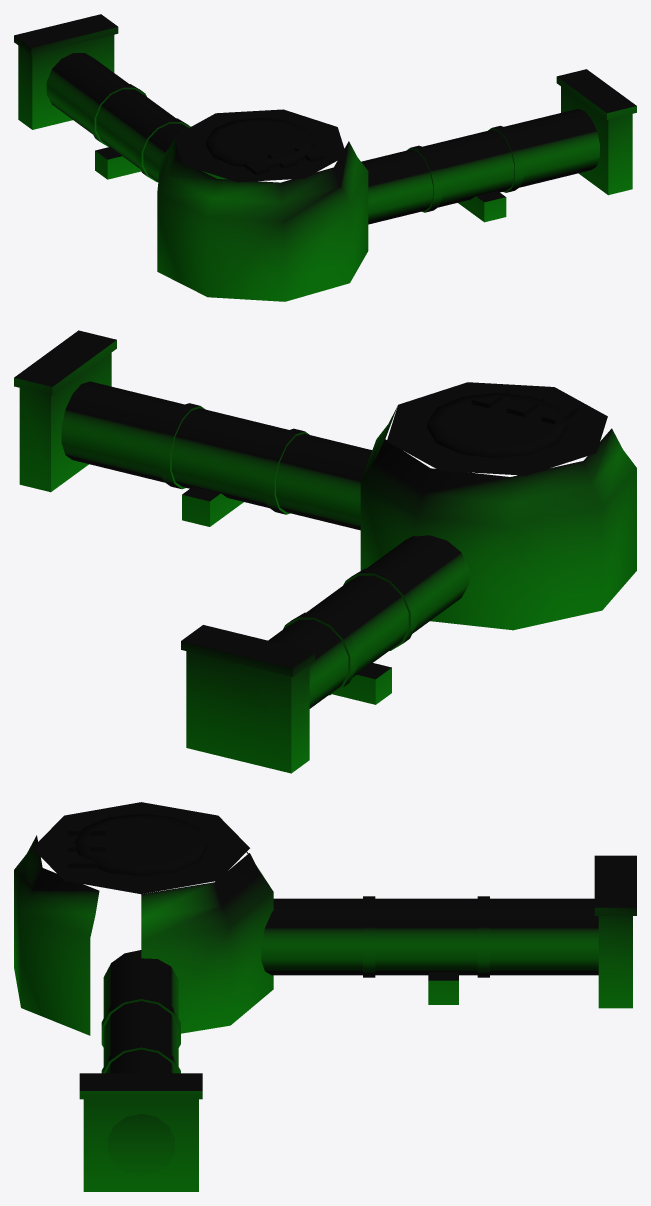
File: cornerpipe.glb
The picture shows the model from 3 angles, top to bottom: view 1: azimuth 30°, elevation 25°; view 2: azimuth 150°, elevation 25°; view 3: azimuth 270°, elevation 25°; orthographic projection. The views are drawn at different scales.
Parts seen in each view (by area): view 1: lod0; view 2: lod0; view 3: lod0.
Part boxes in pixels (<box>): lod0: <box>14,14,636,301</box>; lod0: <box>14,330,636,773</box>; lod0: <box>14,802,636,1191</box>.
Size of what is drawn, in the model's own units: 16.29 by 4.1 by 16.21.
